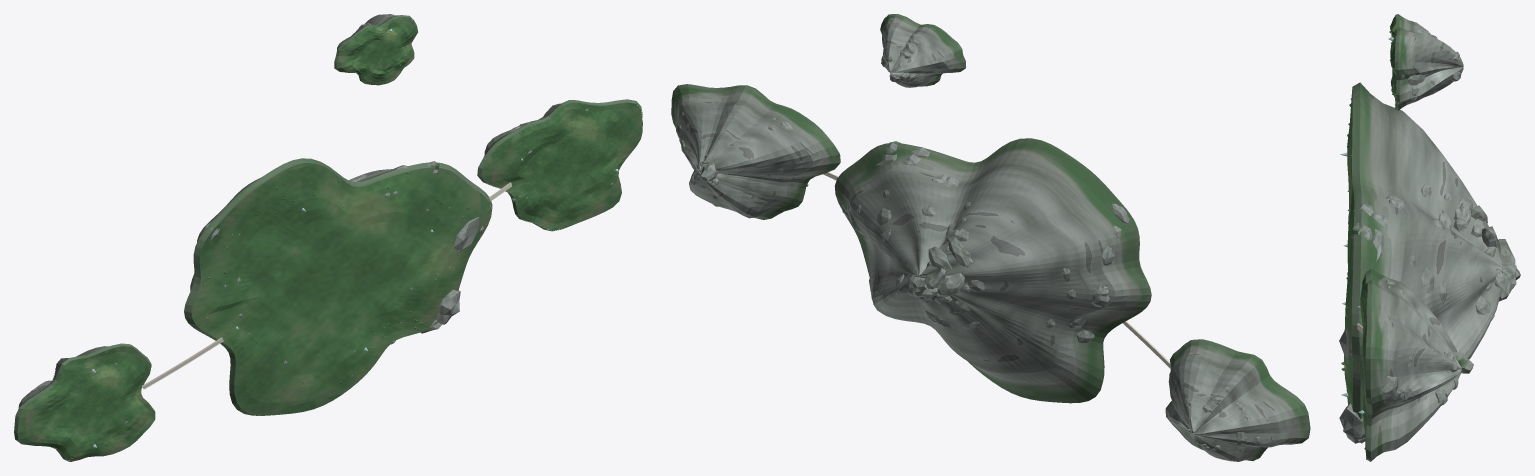
Rendered from Auralia_Albor_Islas_Flotantes_v6.glb.
The picture shows the model from 3 angles, left to right: view 1: azimuth 30°, elevation 25°; view 2: azimuth 150°, elevation 25°; view 3: azimuth 270°, elevation 25°; orthographic projection. The views are drawn at different scales.
Parts seen in each view (by area): view 1: ALBOR_CASTLE_MAIN_GRASS_TOP, ALBOR_VILLAGE_GRASS_TOP, ALBOR_OBSERVATORY_GRASS_TOP, ALBOR_CASTLE_MAIN_ROCK_UNDERBELLY, ALBOR_SHARD_GRASS_TOP, ALBOR_VILLAGE_ROCK_UNDERBELLY, ALBOR_OBSERVATORY_ROCK_UNDERBELLY, ALBOR_SHARD_ROCK_UNDERBELLY; view 2: ALBOR_CASTLE_MAIN_ROCK_UNDERBELLY, ALBOR_VILLAGE_ROCK_UNDERBELLY, ALBOR_OBSERVATORY_ROCK_UNDERBELLY, ALBOR_SHARD_ROCK_UNDERBELLY; view 3: ALBOR_CASTLE_MAIN_ROCK_UNDERBELLY, ALBOR_VILLAGE_ROCK_UNDERBELLY, ALBOR_SHARD_ROCK_UNDERBELLY, ALBOR_CASTLE_MAIN_GRASS_TOP, ALBOR_VILLAGE_GRASS_TOP, ALBOR_SHARD_GRASS_TOP, ALBOR_RIM_MOSS_SHRUBS.
Part boxes in pixels (x1,y1,x2,y2): ALBOR_CASTLE_MAIN_GRASS_TOP: [191, 163, 491, 415]; ALBOR_VILLAGE_GRASS_TOP: [481, 102, 642, 230]; ALBOR_OBSERVATORY_GRASS_TOP: [17, 346, 155, 461]; ALBOR_CASTLE_MAIN_ROCK_UNDERBELLY: [184, 158, 492, 415]; ALBOR_SHARD_GRASS_TOP: [336, 17, 417, 85]; ALBOR_VILLAGE_ROCK_UNDERBELLY: [477, 99, 642, 231]; ALBOR_OBSERVATORY_ROCK_UNDERBELLY: [14, 343, 154, 461]; ALBOR_SHARD_ROCK_UNDERBELLY: [334, 14, 416, 83]; ALBOR_CASTLE_MAIN_ROCK_UNDERBELLY: [834, 138, 1151, 403]; ALBOR_VILLAGE_ROCK_UNDERBELLY: [671, 84, 840, 219]; ALBOR_OBSERVATORY_ROCK_UNDERBELLY: [1165, 339, 1310, 461]; ALBOR_SHARD_ROCK_UNDERBELLY: [880, 14, 965, 87]; ALBOR_CASTLE_MAIN_ROCK_UNDERBELLY: [1339, 82, 1520, 443]; ALBOR_VILLAGE_ROCK_UNDERBELLY: [1362, 269, 1473, 461]; ALBOR_SHARD_ROCK_UNDERBELLY: [1392, 14, 1463, 110]; ALBOR_CASTLE_MAIN_GRASS_TOP: [1344, 90, 1354, 409]; ALBOR_VILLAGE_GRASS_TOP: [1360, 275, 1367, 455]; ALBOR_SHARD_GRASS_TOP: [1390, 17, 1396, 102]; ALBOR_RIM_MOSS_SHRUBS: [1341, 15, 1396, 449].
Bounding box in the file's own units: 1456 × 802 × 283.
Materials: 4 (2 with a texture image).
